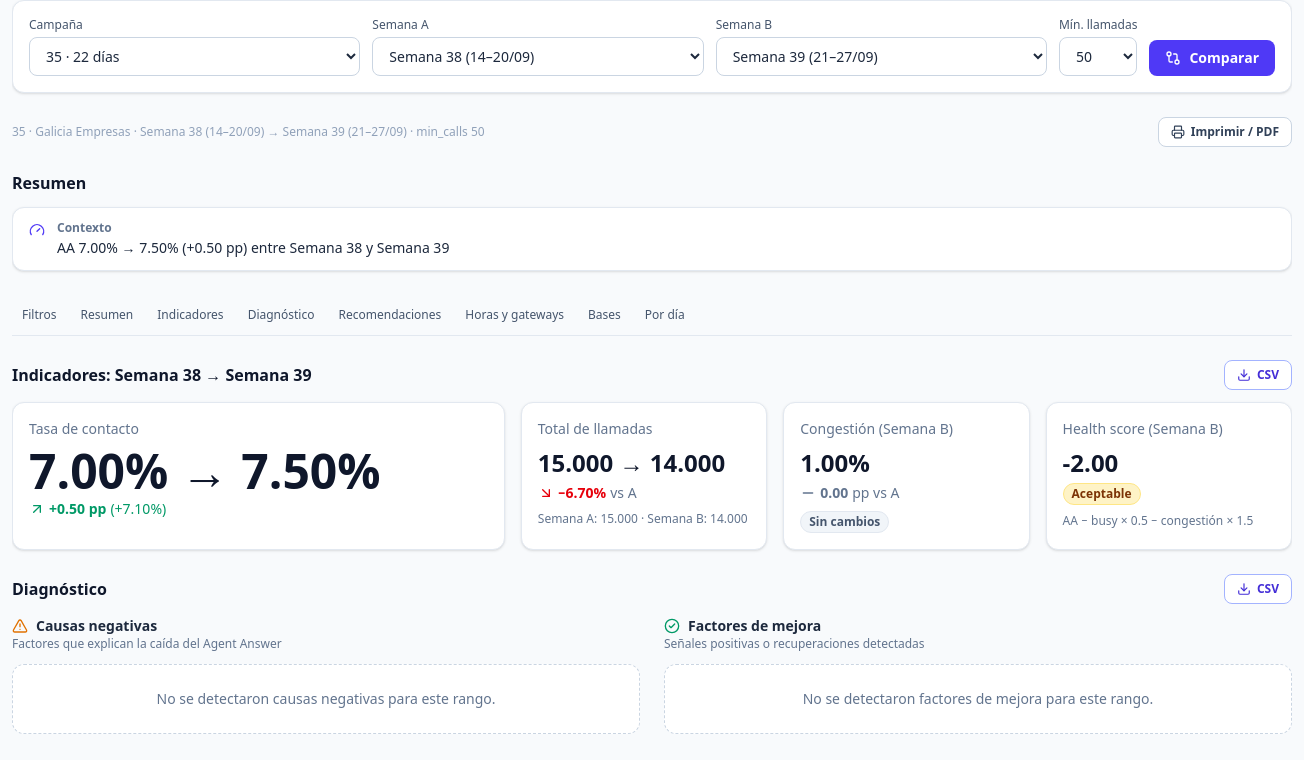
Scenario: WeeksCompareMode › no deja comparar una semana consigo misma
Select "Semana 39 (21–27/09)" in the dropdown with test id "filter-week-a" at (538, 56), box [372, 37, 704, 76]
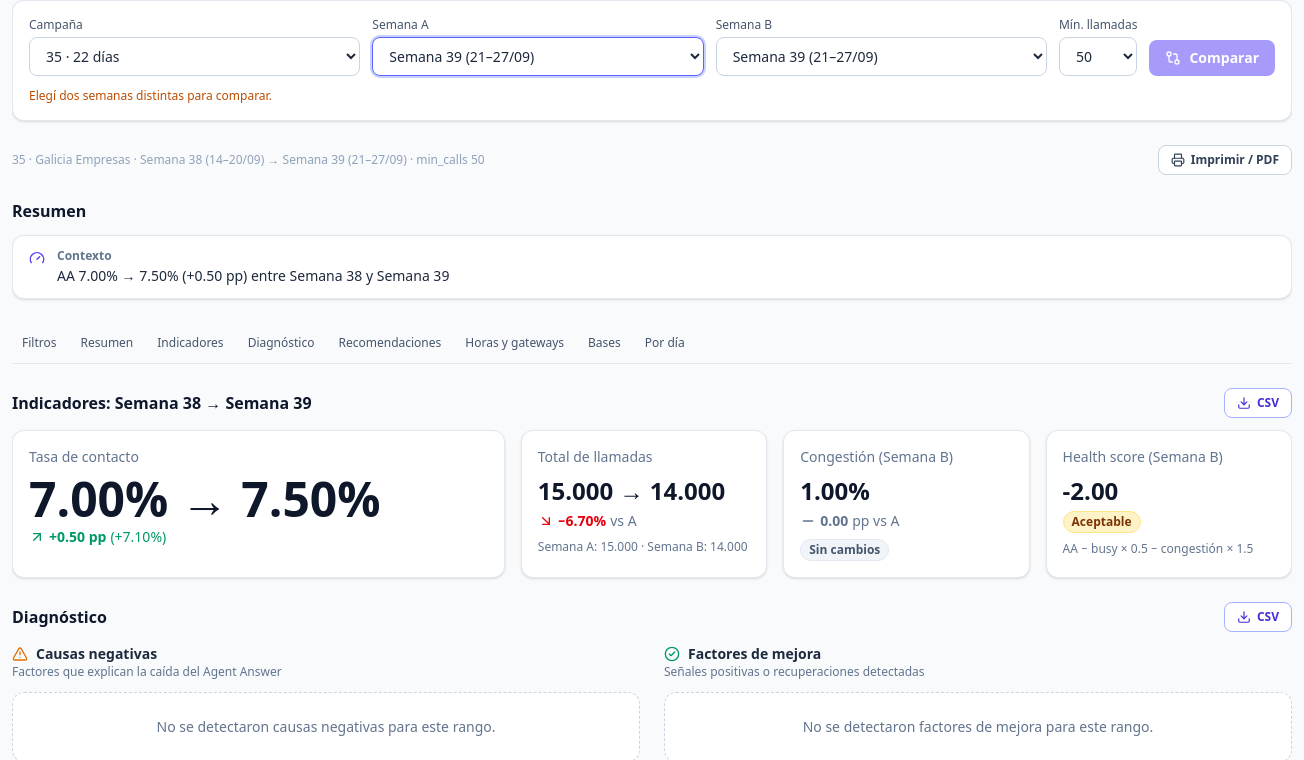
Now the button with test id "filter-weeks-submit" is disabled, box [1150, 40, 1275, 76]
Now the text with test id "filter-weeks-same" shows "Elegí dos semanas distintas", box [29, 87, 272, 104]
